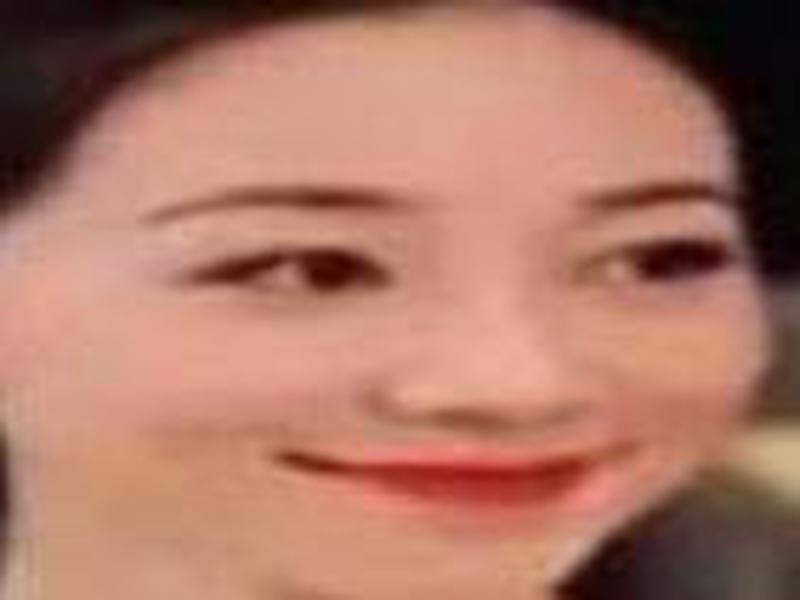without_mask: (6, 112, 774, 600)
